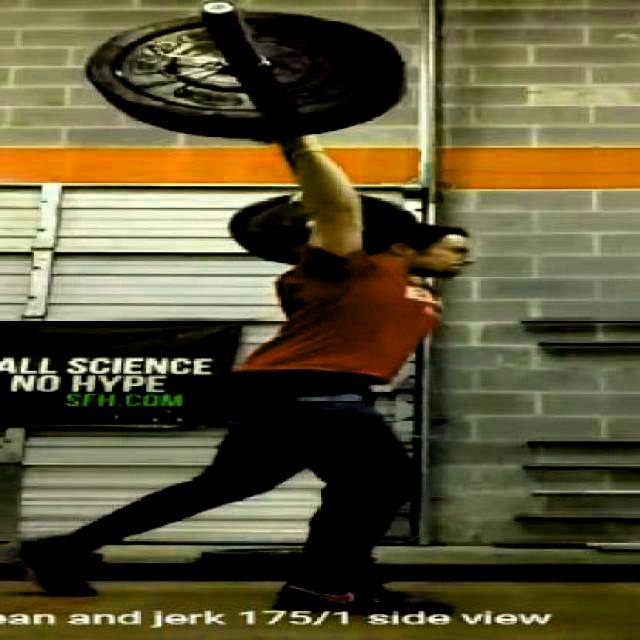barbell: (83, 2, 405, 130)
